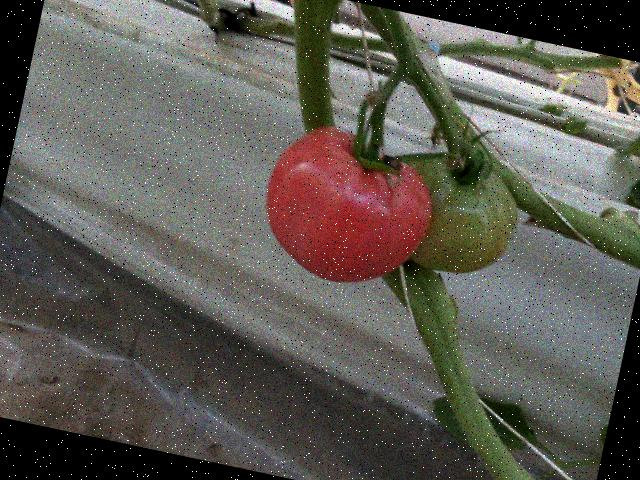b_fully_ripened: (249, 116, 445, 299)
b_green: (379, 144, 528, 285)
